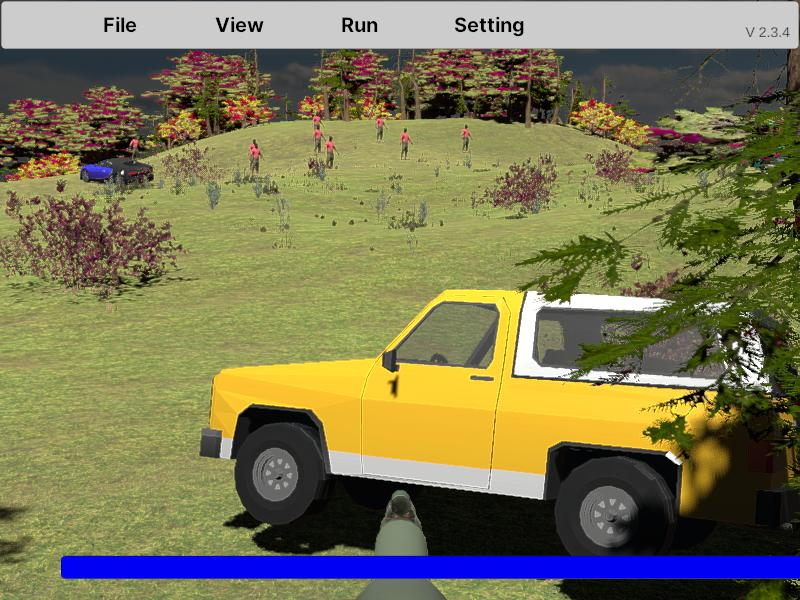Human: (249, 140, 264, 182)
car: (202, 287, 778, 554), (80, 157, 154, 188)
